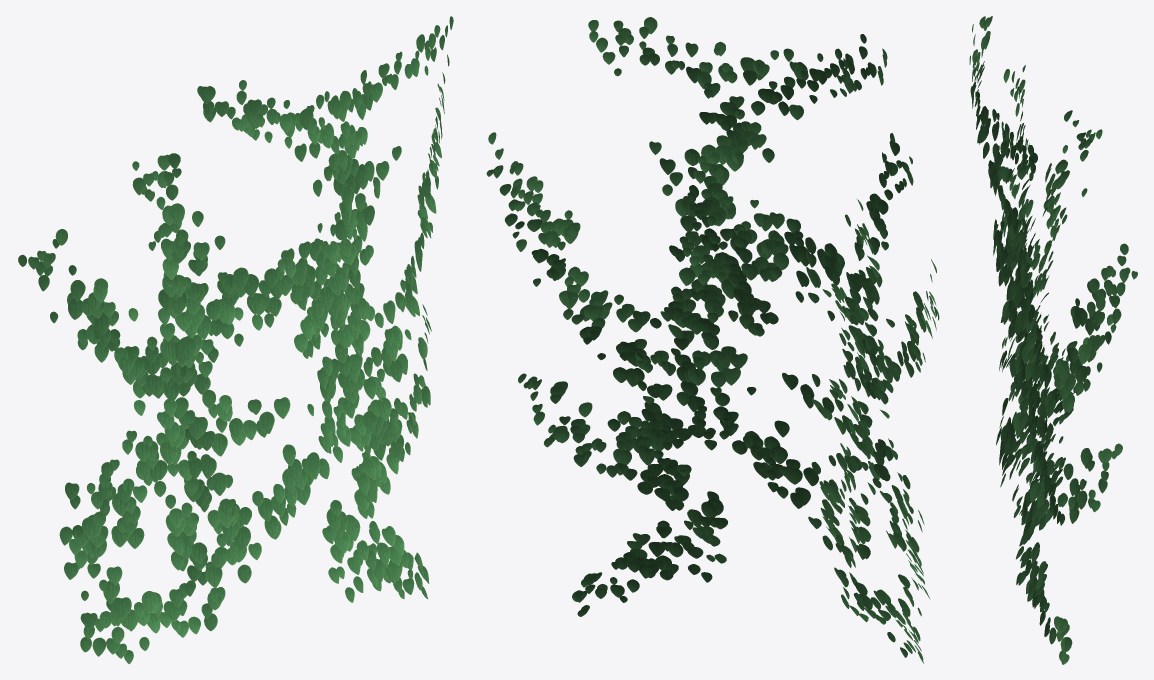
The model's file is ivy_curve_lod.fbx.
3 renders of one model, left to right at view 1: azimuth 30°, elevation 25°; view 2: azimuth 150°, elevation 25°; view 3: azimuth 270°, elevation 25°, orthographic. The views are drawn at different scales.
Visible parts, largest first — view 1: iveLeafCurve_LOD0; view 2: iveLeafCurve_LOD0; view 3: iveLeafCurve_LOD0.
Boxes of the visible parts, x1,y1,x2,y2 form: iveLeafCurve_LOD0: (18, 16, 453, 664); iveLeafCurve_LOD0: (486, 17, 939, 663); iveLeafCurve_LOD0: (969, 16, 1137, 664).
Size of what is drawn, in the model's own units: 1143 by 1502 by 429.
